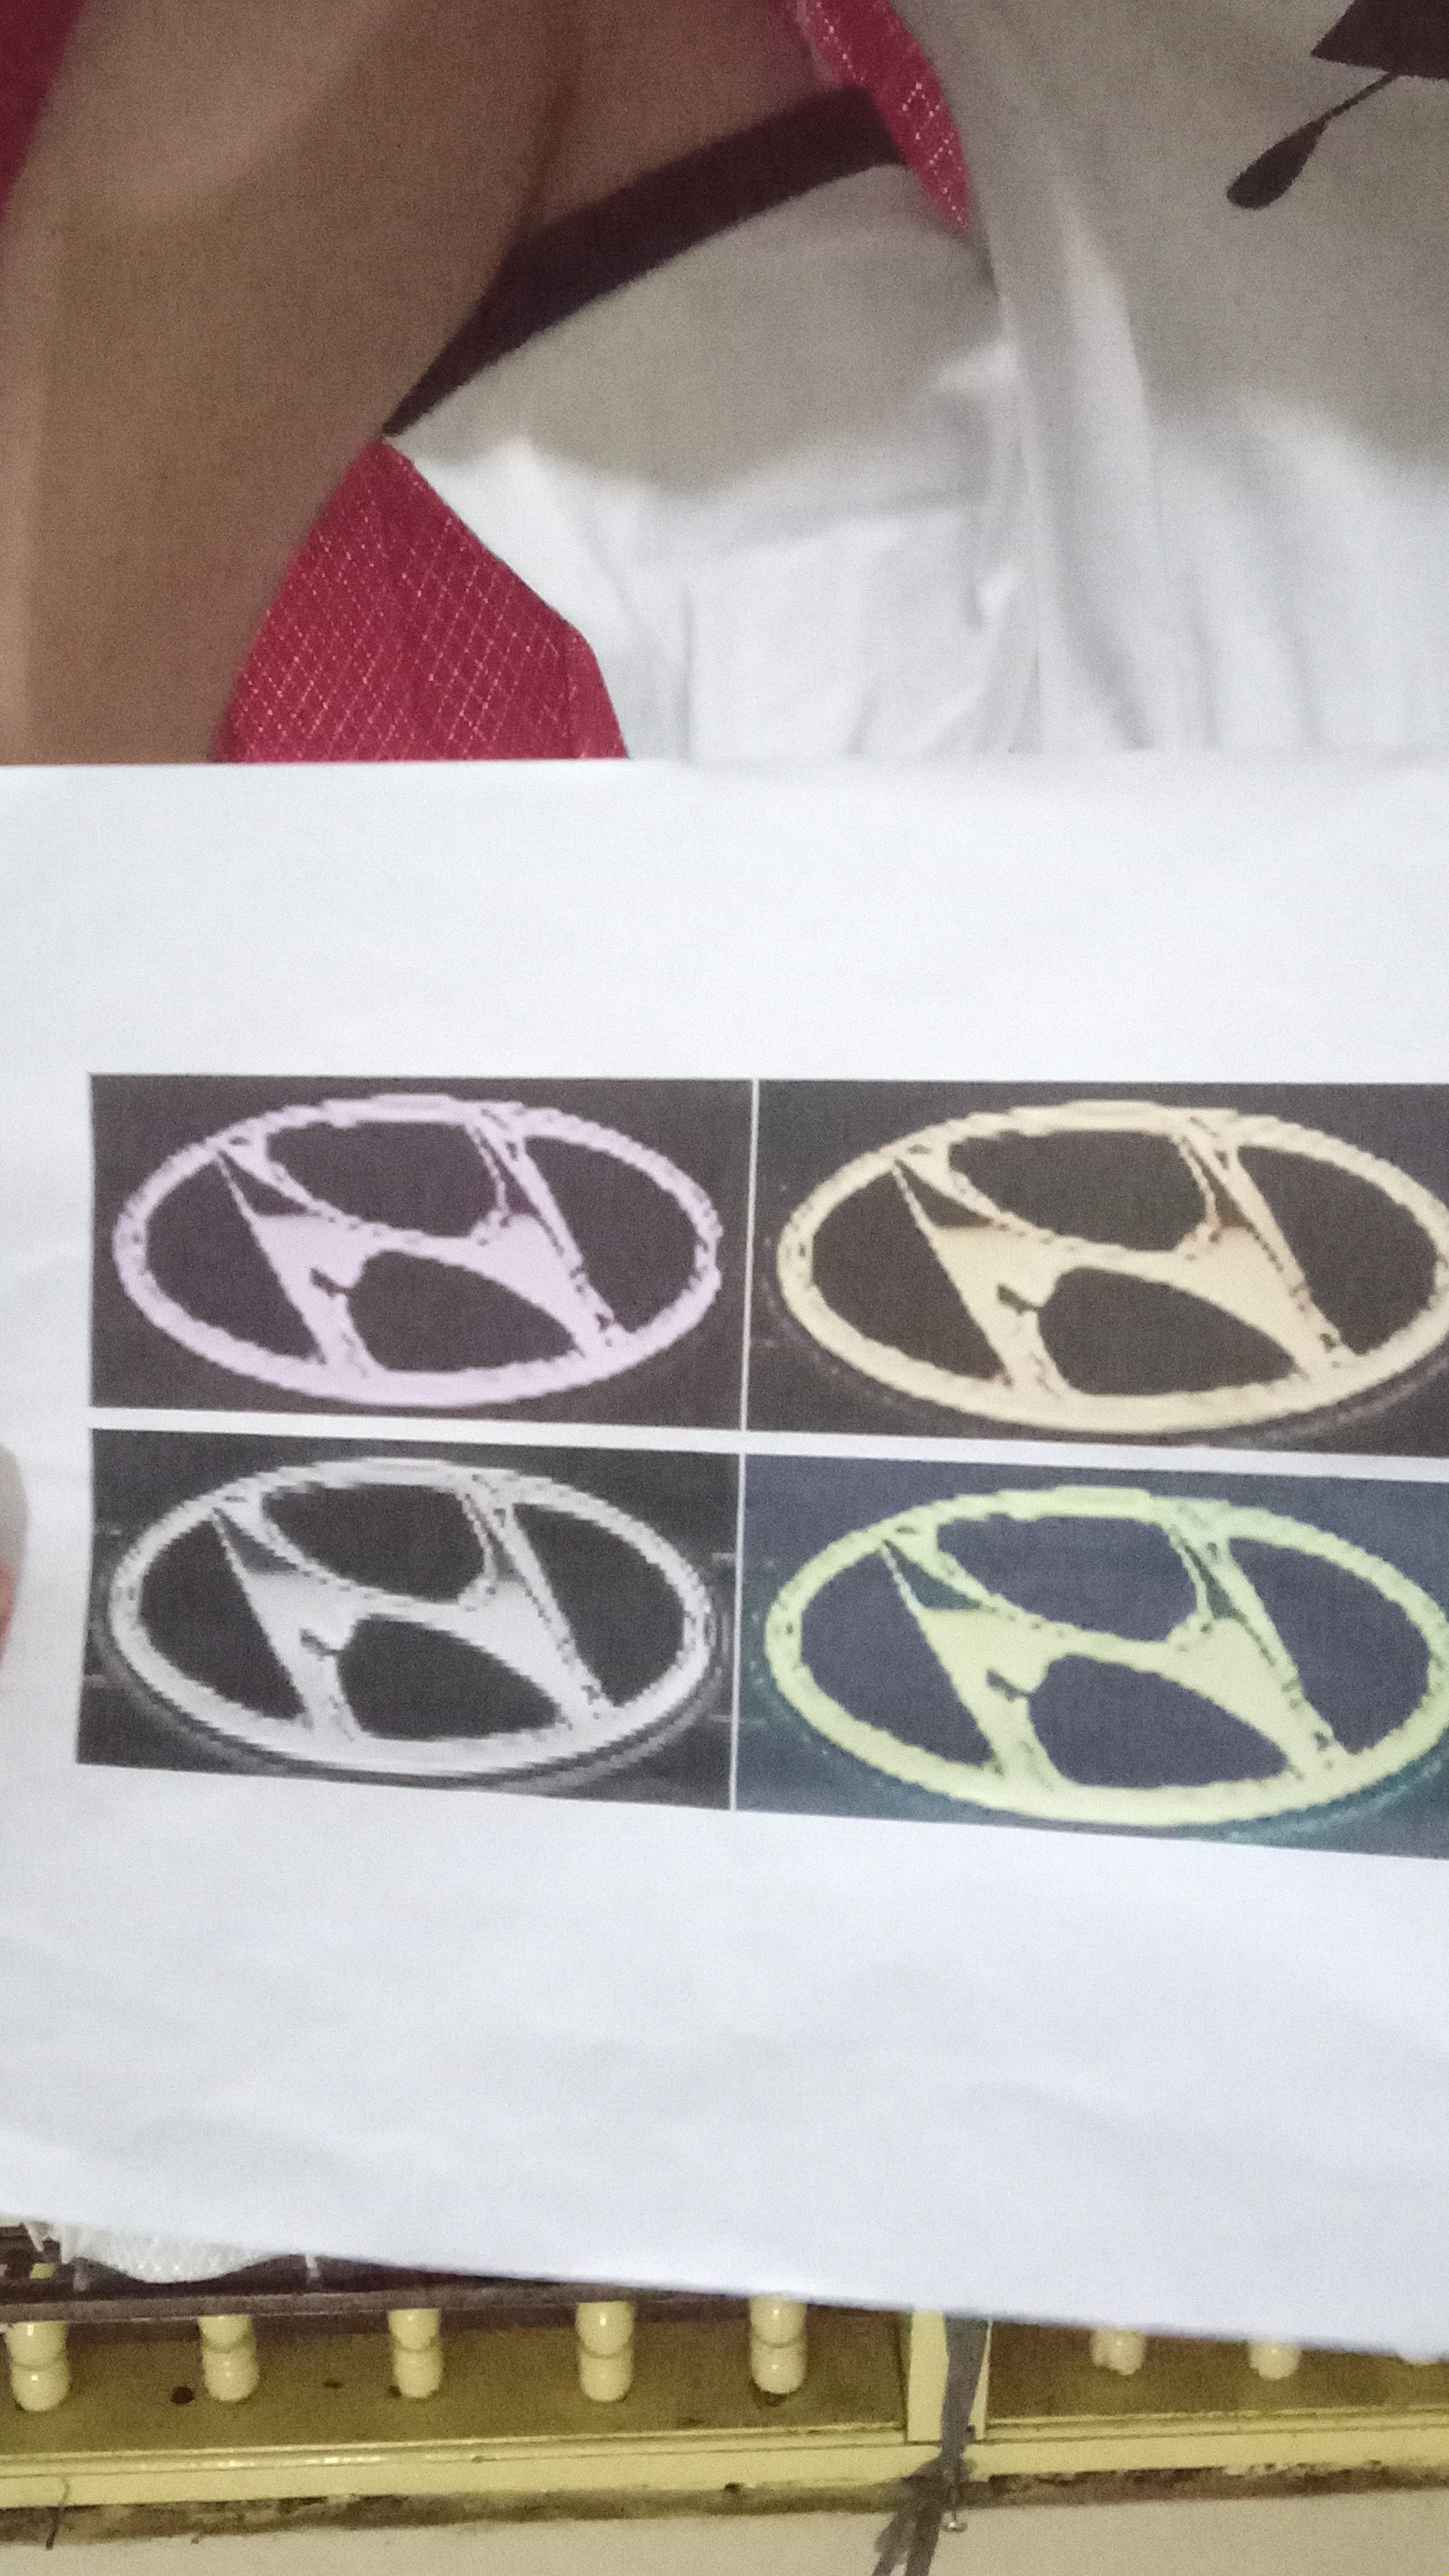Hyundai: (752, 1453, 1449, 1851), (757, 1077, 1449, 1453), (92, 1431, 725, 1803), (81, 1072, 724, 1433)
